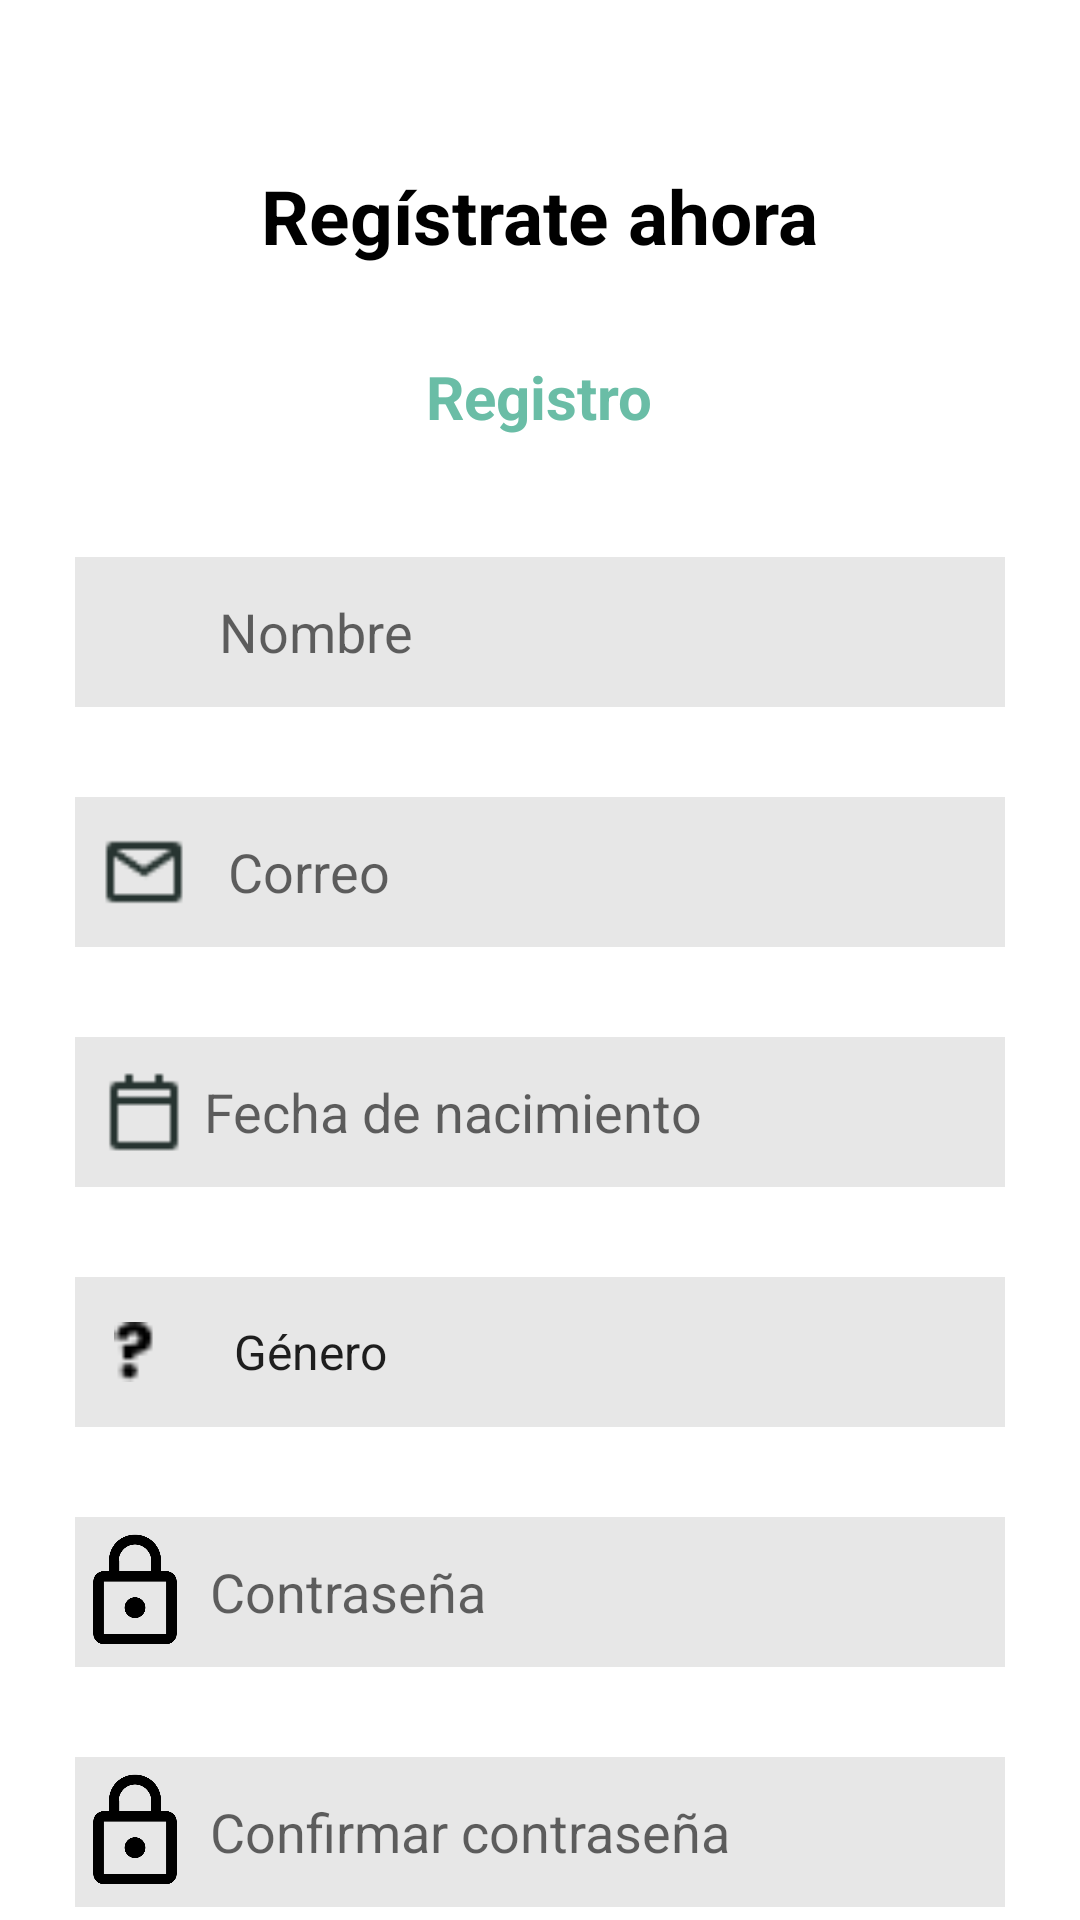

Screen size 1080*1920. Icon name, then its box in pixels as (left=x1, top=y1, right=x2, bottom=y2):
calendar: (left=109, top=1073, right=179, bottom=1151)
de cadenas securite noir: (left=93, top=1534, right=177, bottom=1644), (left=93, top=1774, right=177, bottom=1884)
mail: (left=105, top=841, right=183, bottom=903)
signo: (left=114, top=1322, right=153, bottom=1382)
